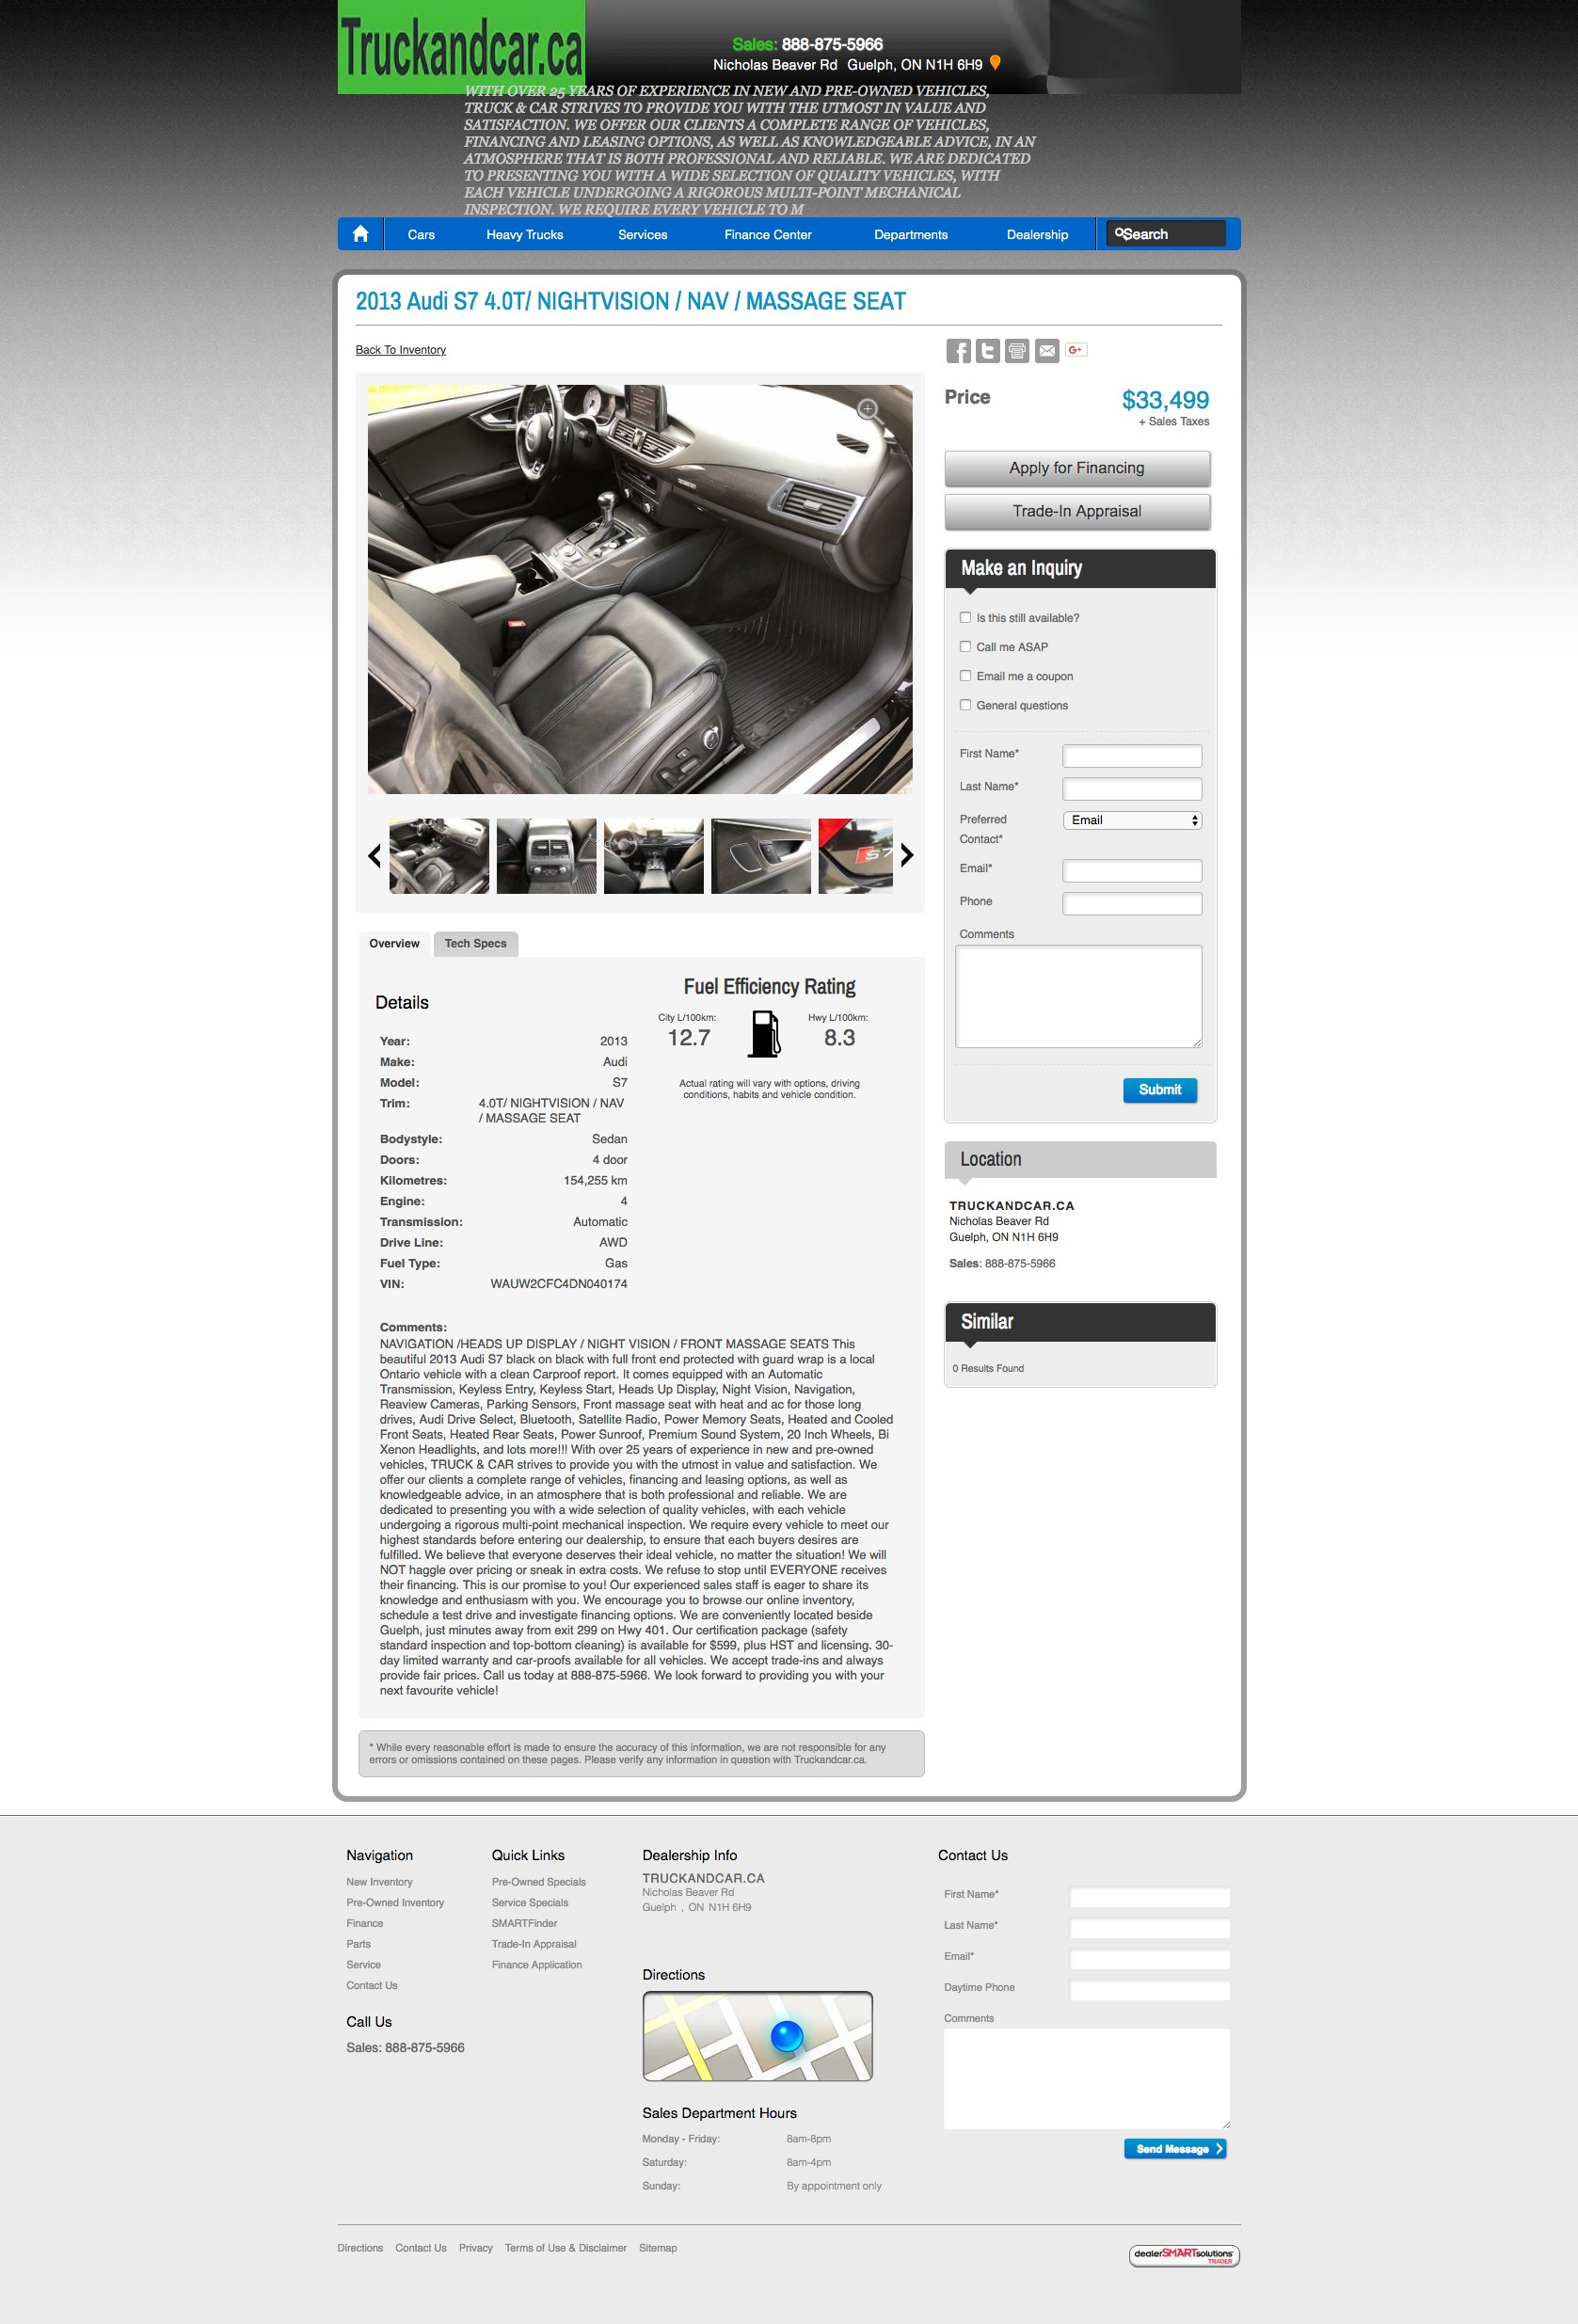car: (902, 842, 914, 868)
